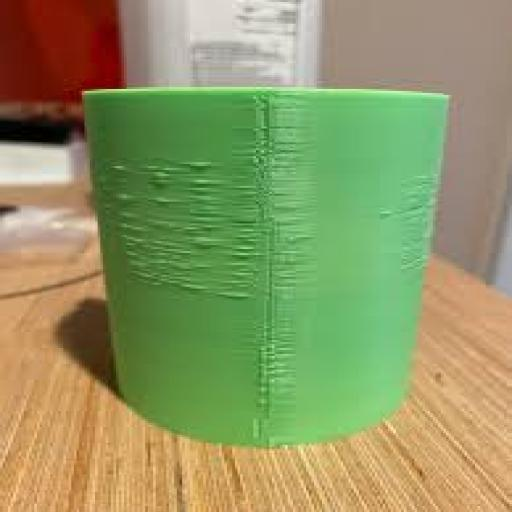blobs: (103, 155, 258, 296), (277, 220, 324, 310), (381, 176, 423, 237)
cracks: (249, 92, 295, 165)
